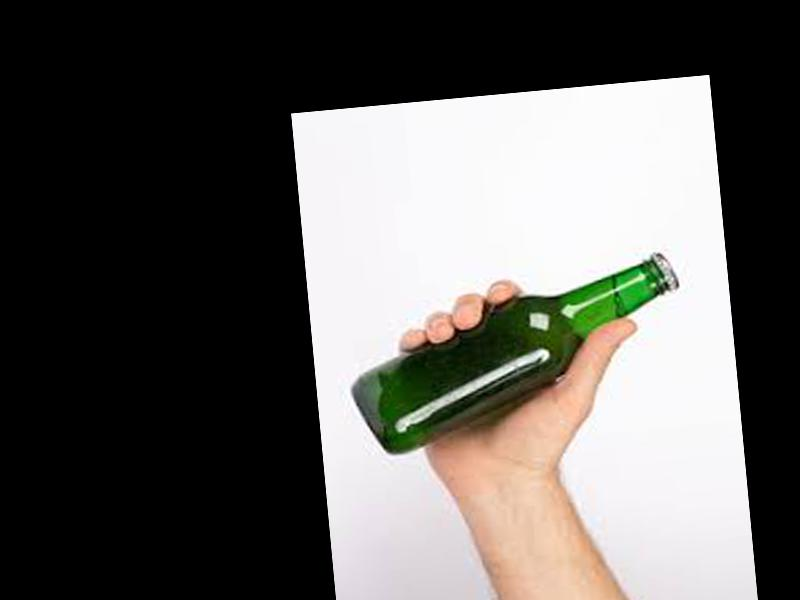Beer: (345, 252, 693, 458)
